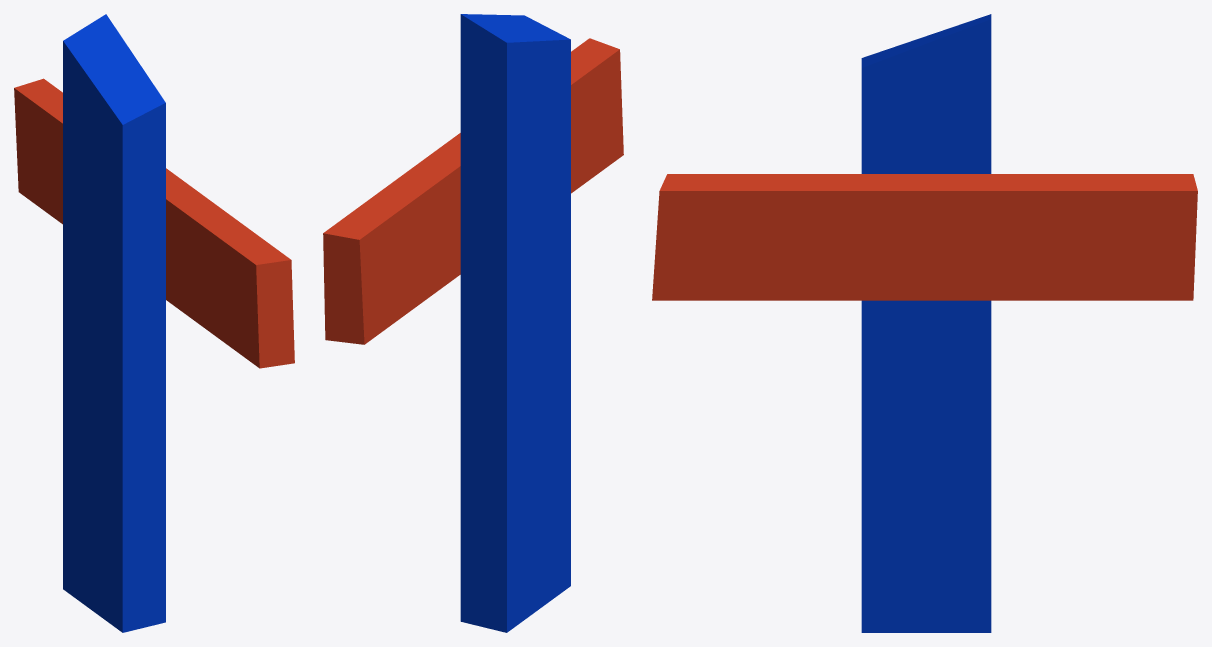
File: cross.fbx
The picture shows the model from 3 angles, left to right: view 1: azimuth 30°, elevation 25°; view 2: azimuth 150°, elevation 25°; view 3: azimuth 270°, elevation 25°; orthographic projection. The views are drawn at different scales.
Visible parts, largest first — view 1: Cross; view 2: Cross; view 3: Cross.
Part boxes in pixels (x1,y1,x2,y2): Cross: (14, 14, 294, 632); Cross: (323, 14, 623, 632); Cross: (652, 14, 1197, 632).
Bounding box in the file's own units: 32.05 × 228 × 184.
